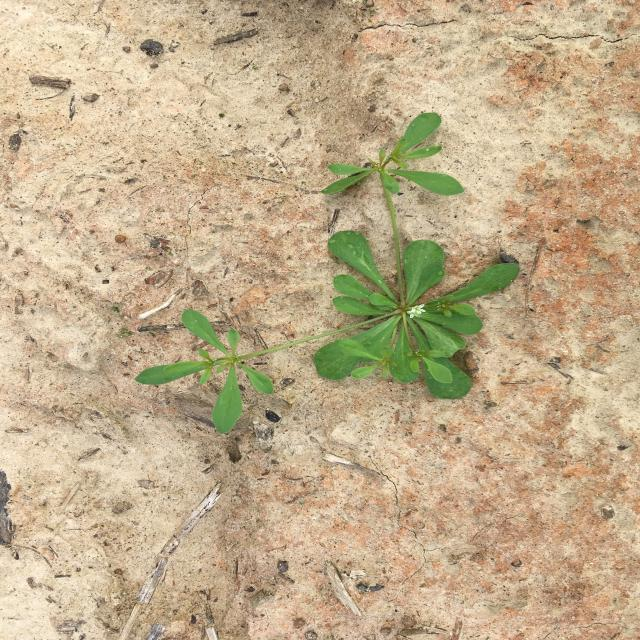Carpetweed: (135, 112, 521, 434)
